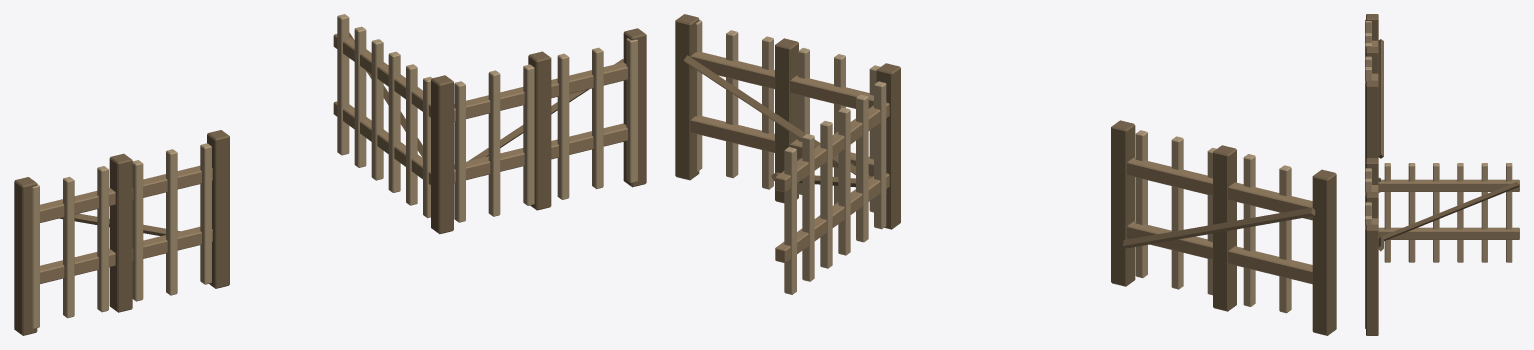
File: fence_gate.glb
The picture shows the model from 3 angles, left to right: view 1: azimuth 30°, elevation 25°; view 2: azimuth 150°, elevation 25°; view 3: azimuth 270°, elevation 25°; orthographic projection. The views are drawn at different scales.
Visible parts, largest first — view 1: fence_gate_oak_light, fence_gate_oak_dark, fence_gate_oak; view 2: fence_gate_oak_dark, fence_gate_oak_light, fence_gate_oak; view 3: fence_gate_oak_dark, fence_gate_oak_light, fence_gate_oak.
Part boxes in pixels (x1=…): fence_gate_oak_light: x1=32, y1=14, x2=637, y2=328; fence_gate_oak_dark: x1=14, y1=28, x2=646, y2=335; fence_gate_oak: x1=40, y1=34, x2=627, y2=283; fence_gate_oak_dark: x1=675, y1=14, x2=1336, y2=335; fence_gate_oak_light: x1=695, y1=20, x2=1291, y2=313; fence_gate_oak: x1=690, y1=51, x2=1312, y2=284; fence_gate_oak_dark: x1=1366, y1=14, x2=1519, y2=335; fence_gate_oak_light: x1=1365, y1=19, x2=1512, y2=328; fence_gate_oak: x1=1372, y1=40, x2=1519, y2=239.
Bounding box in the file's own units: 6 × 1.38 × 1.82.
